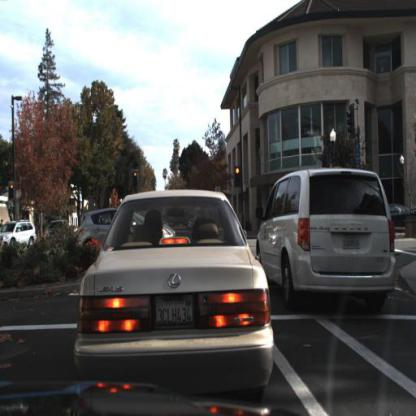car: (77, 186, 271, 386), (256, 165, 397, 308), (1, 220, 39, 249), (1, 219, 38, 248), (388, 201, 414, 237)
trafficLight-Red: (234, 166, 242, 189), (9, 182, 16, 201), (132, 170, 139, 189)
